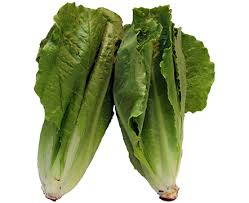Lettuce: (24, 3, 194, 203)
